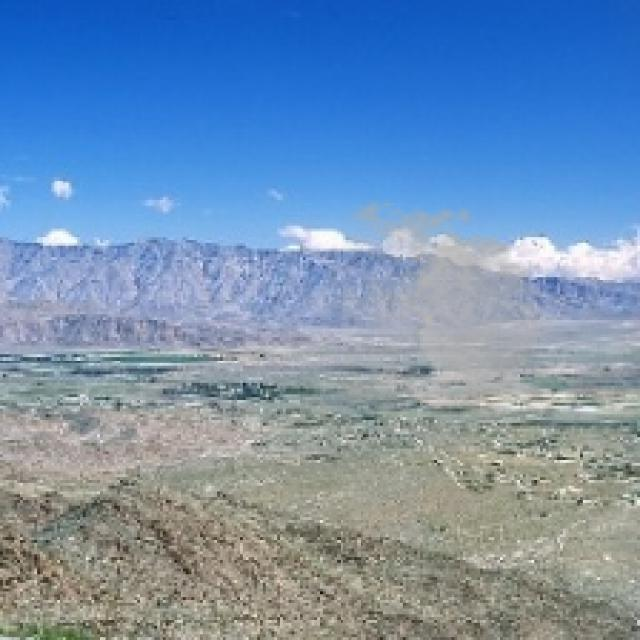smoke: (323, 194, 560, 414)
